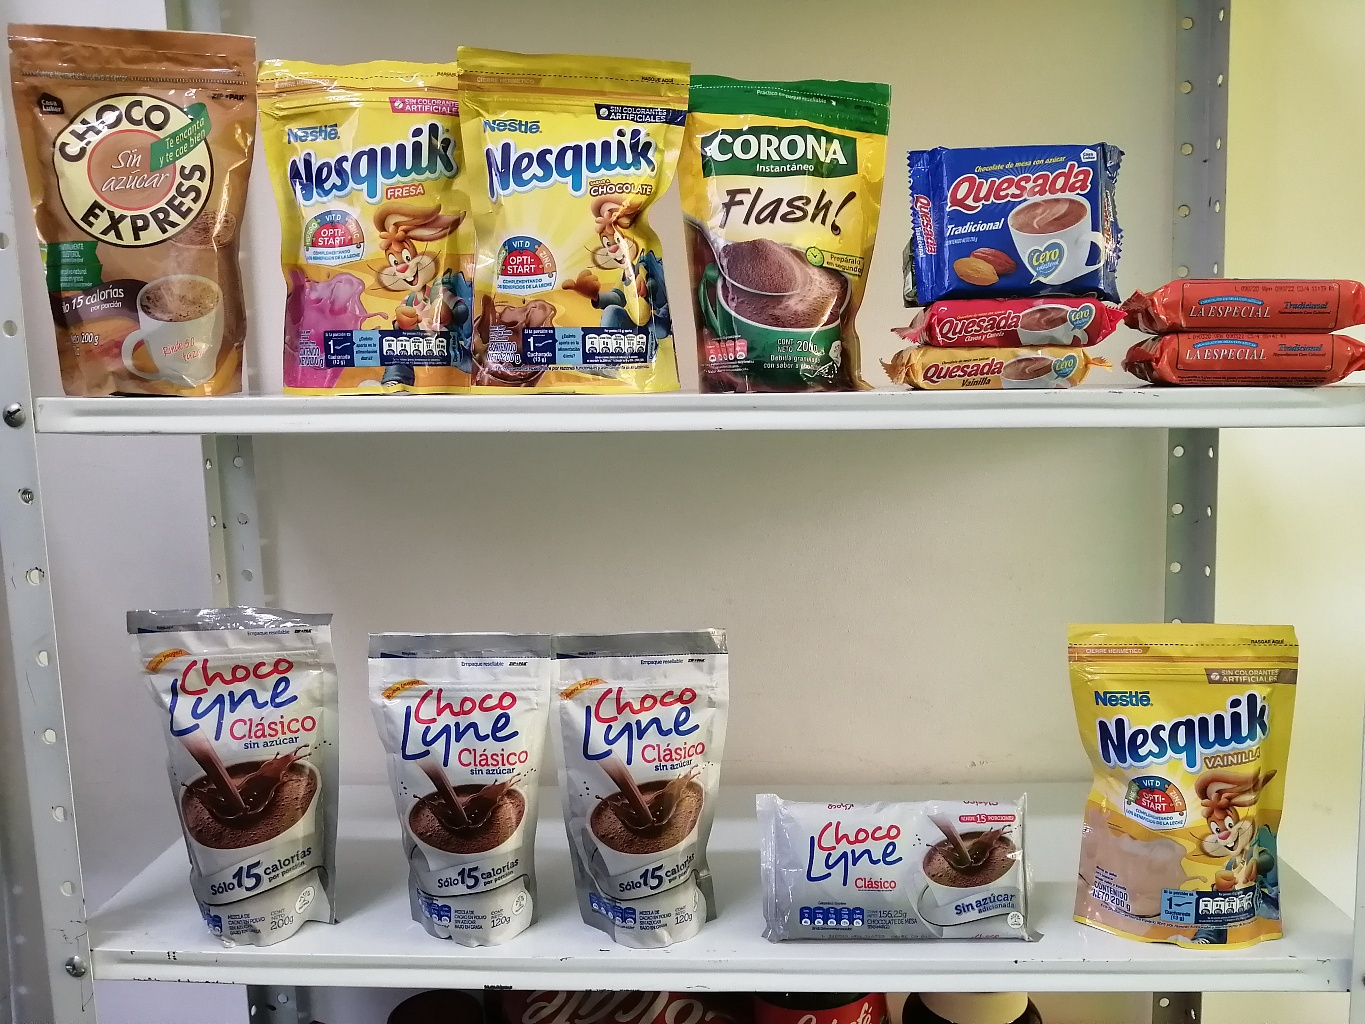COL0170303DYP20000: (477, 41, 697, 390)
COL0170305DYP20000: (266, 58, 492, 386)
COL0170306DYP20000: (1073, 628, 1313, 952)
